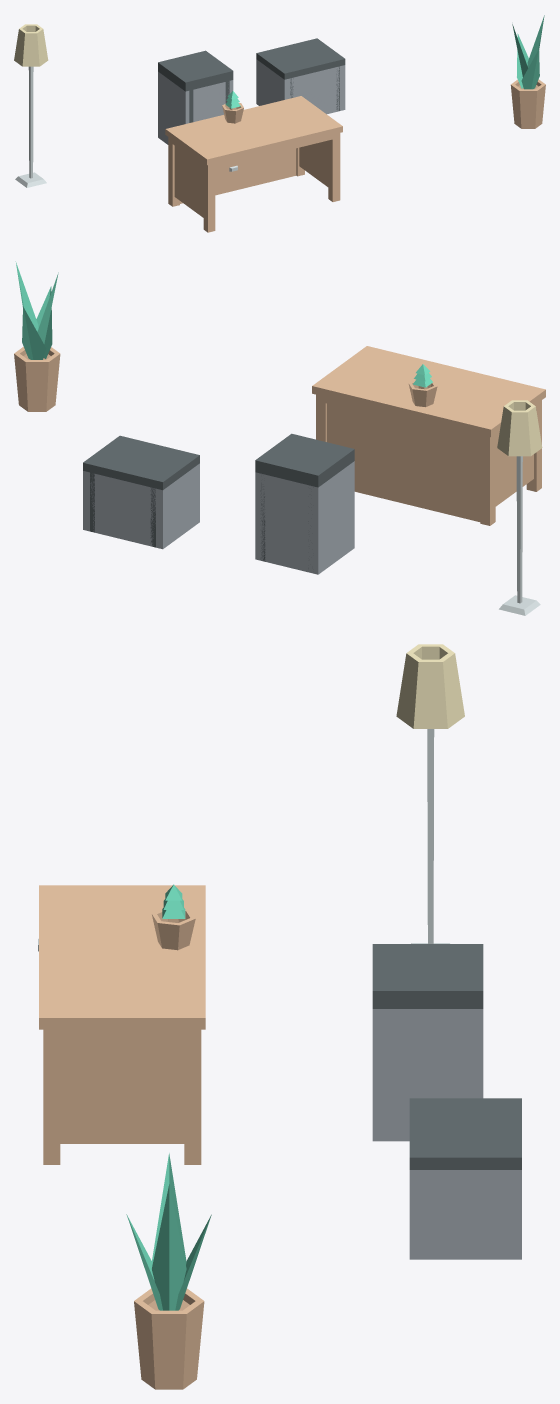
3 views of the same model, one above another, from view 1: azimuth 30°, elevation 25°; view 2: azimuth 150°, elevation 25°; view 3: azimuth 270°, elevation 25° (orthographic). The views are drawn at different scales.
Visible parts, largest first — view 1: desk_blue__desk(Clone), crate_red__crate_red shell, bin_gray__bin_gray shell, crate_red__crate_red lid, lamp_white__lampRoundFloor(Clone), bin_gray__bin_gray lid, plant_pink__pottedPlant(Clone), plant_pink__plant, flowerpot_green__plantSmall1(Clone), desk_blue__drawer, bin_gray__bin_gray band; view 2: desk_blue__desk(Clone), bin_gray__bin_gray shell, crate_red__crate_red shell, crate_red__crate_red lid, lamp_white__lampRoundFloor(Clone), bin_gray__bin_gray lid, plant_pink__pottedPlant(Clone), plant_pink__plant, flowerpot_green__plantSmall1(Clone), crate_red__crate_red band; view 3: desk_blue__desk(Clone), bin_gray__bin_gray shell, crate_red__crate_red shell, crate_red__crate_red lid, bin_gray__bin_gray lid, lamp_white__lampRoundFloor(Clone), plant_pink__pottedPlant(Clone), plant_pink__plant, flowerpot_green__plantSmall1(Clone).
Part boxes in pixels (bbox=[...]): desk_blue__desk(Clone): bbox=[165, 96, 342, 232]; crate_red__crate_red shell: bbox=[256, 59, 345, 114]; bin_gray__bin_gray shell: bbox=[158, 71, 233, 144]; crate_red__crate_red lid: bbox=[256, 38, 345, 79]; lamp_white__lampRoundFloor(Clone): bbox=[14, 24, 48, 187]; bin_gray__bin_gray lid: bbox=[158, 50, 233, 91]; plant_pink__pottedPlant(Clone): bbox=[510, 79, 545, 128]; plant_pink__plant: bbox=[512, 15, 544, 89]; flowerpot_green__plantSmall1(Clone): bbox=[222, 91, 243, 123]; desk_blue__drawer: bbox=[215, 159, 251, 177]; bin_gray__bin_gray band: bbox=[162, 60, 193, 122]; desk_blue__desk(Clone): bbox=[312, 346, 545, 525]; bin_gray__bin_gray shell: bbox=[255, 461, 354, 574]; crate_red__crate_red shell: bbox=[83, 463, 199, 549]; crate_red__crate_red lid: bbox=[83, 435, 199, 490]; lamp_white__lampRoundFloor(Clone): bbox=[497, 400, 542, 615]; bin_gray__bin_gray lid: bbox=[255, 433, 354, 487]; plant_pink__pottedPlant(Clone): bbox=[14, 347, 60, 411]; plant_pink__plant: bbox=[15, 261, 58, 359]; flowerpot_green__plantSmall1(Clone): bbox=[408, 364, 437, 407]; crate_red__crate_red band: bbox=[150, 452, 192, 547]; desk_blue__desk(Clone): bbox=[39, 885, 205, 1164]; bin_gray__bin_gray shell: bbox=[372, 1009, 483, 1141]; crate_red__crate_red shell: bbox=[409, 1170, 521, 1259]; crate_red__crate_red lid: bbox=[409, 1098, 521, 1169]; bin_gray__bin_gray lid: bbox=[372, 944, 483, 1008]; lamp_white__lampRoundFloor(Clone): bbox=[396, 644, 464, 943]; plant_pink__pottedPlant(Clone): bbox=[134, 1288, 204, 1389]; plant_pink__plant: bbox=[126, 1153, 211, 1310]; flowerpot_green__plantSmall1(Clone): bbox=[152, 884, 195, 950].
Size of the model in its own units: 4.36 by 1.38 by 1.98.
